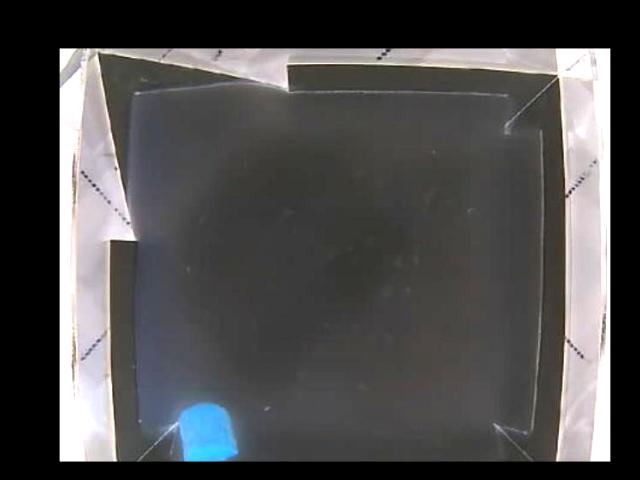Carrot: (179, 402, 239, 460)
